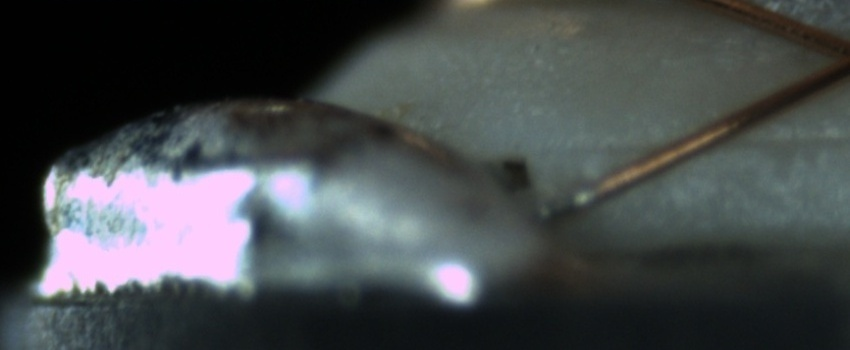CL: (805, 23, 850, 91)
DL: (572, 111, 848, 174)
TS: (535, 186, 601, 220)
